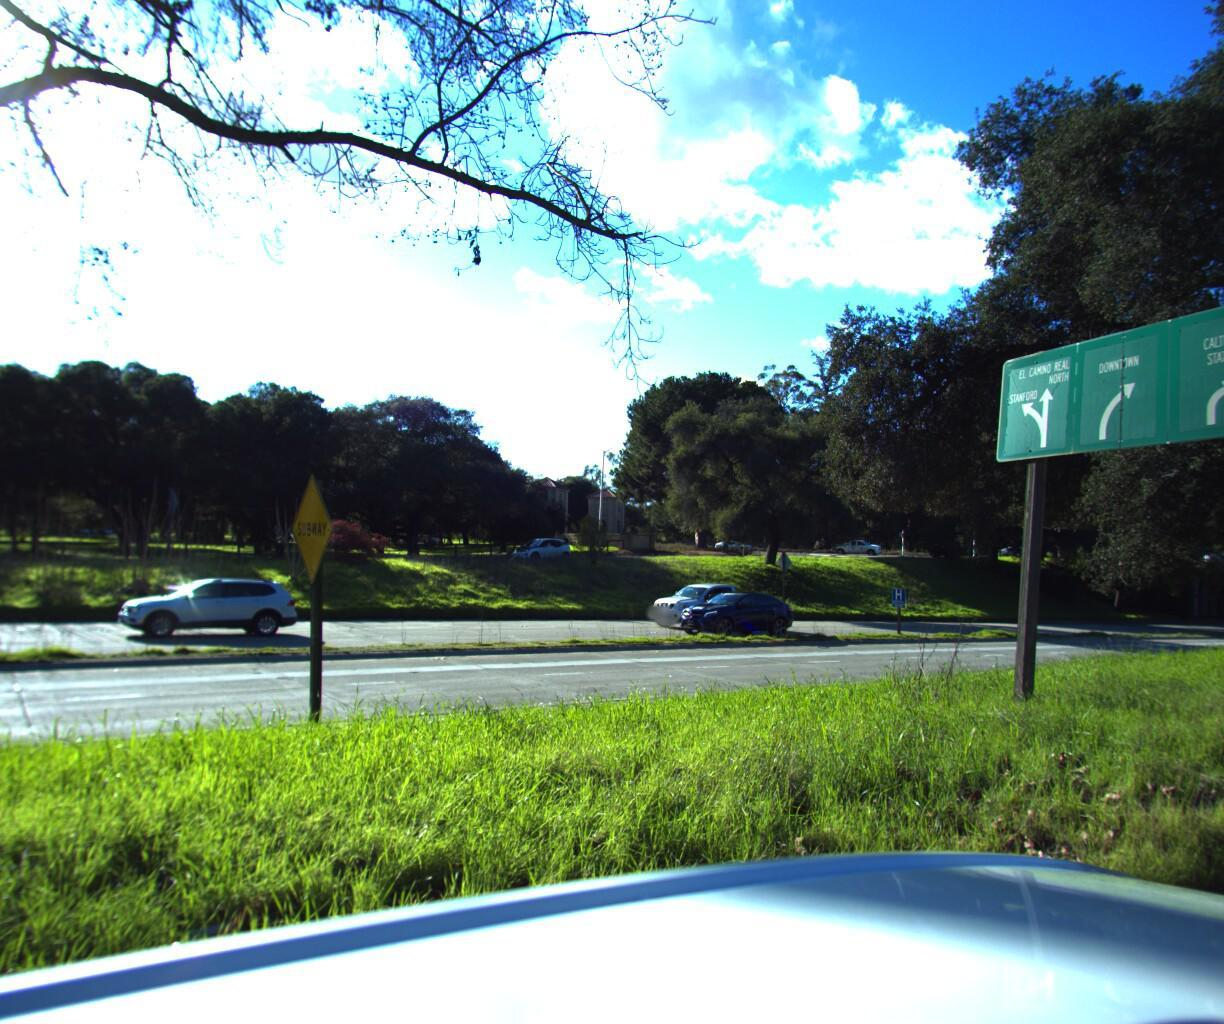car: (108, 575, 296, 642), (674, 586, 799, 637), (648, 580, 771, 630), (506, 536, 575, 559)
